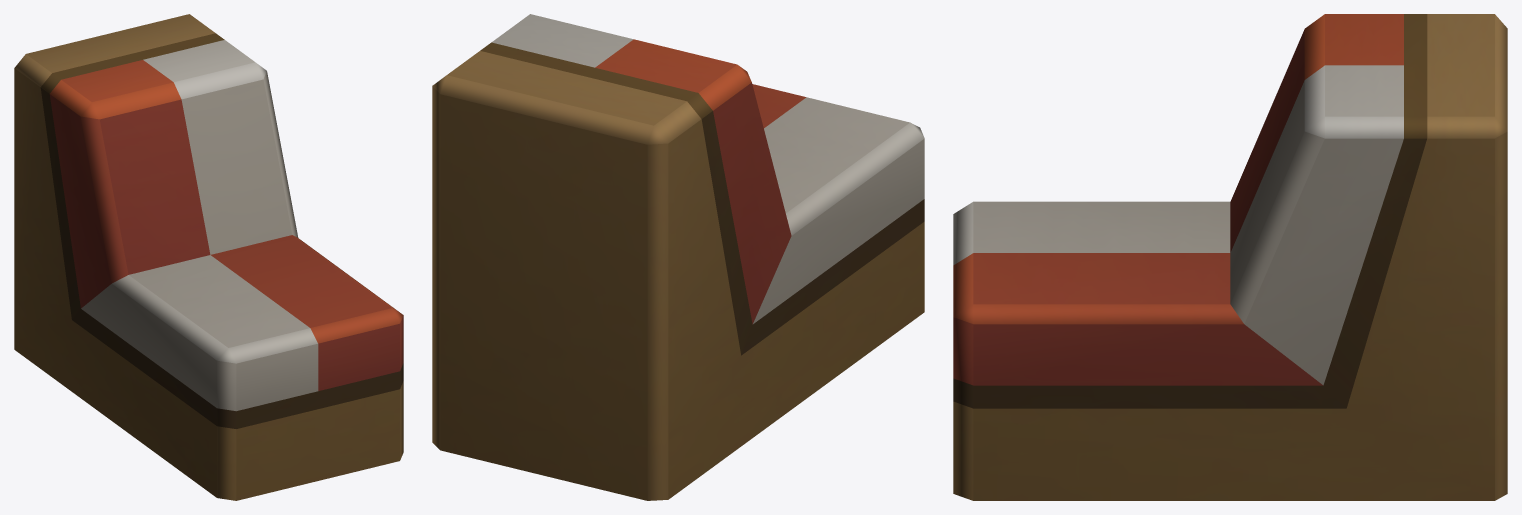
The model's file is chair_roof_x1_red_white.fbx.
3 views of the same model, side by side, from view 1: azimuth 30°, elevation 25°; view 2: azimuth 150°, elevation 25°; view 3: azimuth 270°, elevation 25° (orthographic). The views are drawn at different scales.
Visible parts, largest first — view 1: chair_roof_x1_red_white; view 2: chair_roof_x1_red_white; view 3: chair_roof_x1_red_white.
Boxes of the visible parts, left/top/right/bottom form: chair_roof_x1_red_white: left=14, top=14, right=403, bottom=500; chair_roof_x1_red_white: left=432, top=14, right=924, bottom=500; chair_roof_x1_red_white: left=953, top=14, right=1507, bottom=500.
Size of the model in its own units: 50 by 75 by 100.
